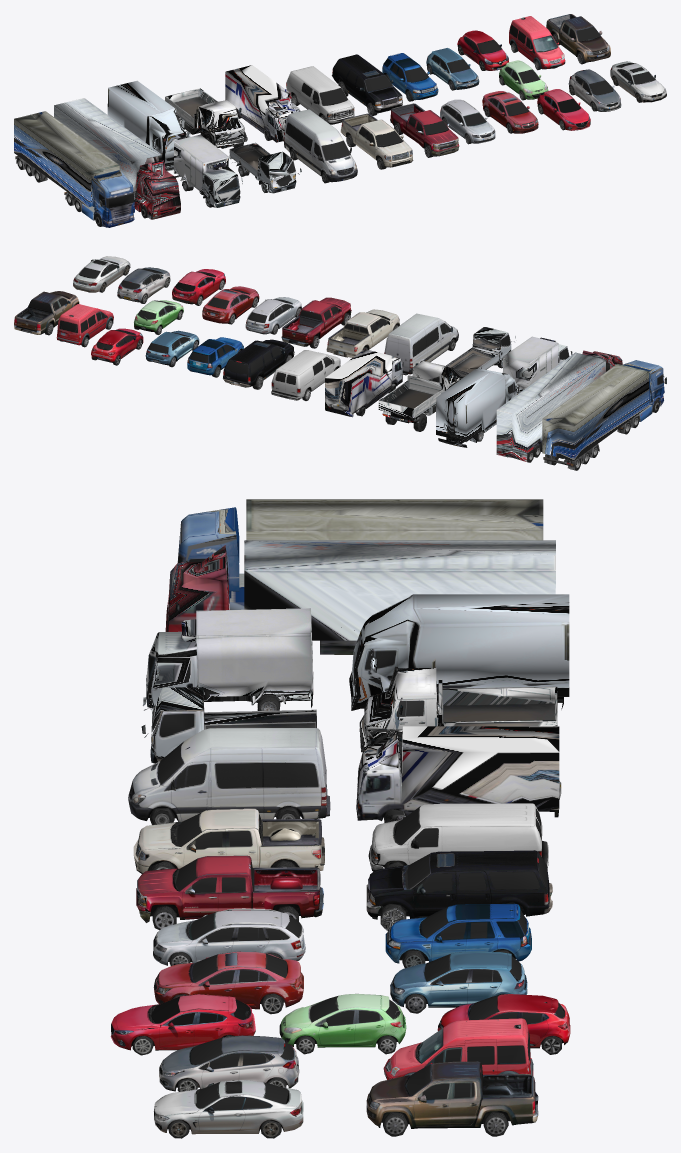
Rendered from vehicle_lot_display.glb.
The picture shows the model from 3 angles, top to bottom: view 1: azimuth 30°, elevation 25°; view 2: azimuth 150°, elevation 25°; view 3: azimuth 270°, elevation 25°; orthographic projection. The views are drawn at different scales.
Visible parts, largest first — view 1: object 15, object 14, object 17, object 12, object 18, object 6, object 5, object 7, object 2, object 8, object 19, object 16 (+7 smaller); view 2: object 15, object 14, object 17, object 18, object 12, object 5, object 6, object 7, object 2, object 19, object 8, object 16 (+7 smaller); view 3: object 15, object 17, object 14, object 12, object 18, object 6, object 2, object 19, object 7, object 5, object 9, object 1 (+7 smaller).
Boxes of the visible parts, <box> form: object 15: <box>14,80,301,227</box>; object 14: <box>165,88,357,182</box>; object 17: <box>54,98,182,219</box>; object 12: <box>173,60,548,207</box>; object 18: <box>225,65,300,142</box>; object 6: <box>331,54,402,113</box>; object 5: <box>286,66,354,124</box>; object 7: <box>340,113,413,167</box>; object 2: <box>390,103,459,156</box>; object 8: <box>509,16,565,69</box>; object 19: <box>546,14,610,62</box>; object 16: <box>95,99,495,226</box>; object 15: <box>436,327,666,469</box>; object 14: <box>378,313,459,423</box>; object 17: <box>496,350,622,461</box>; object 18: <box>325,349,403,417</box>; object 12: <box>134,300,572,441</box>; object 5: <box>271,350,340,400</box>; object 6: <box>223,339,294,387</box>; object 7: <box>326,309,399,357</box>; object 2: <box>281,297,351,346</box>; object 19: <box>14,291,79,334</box>; object 8: <box>56,304,113,345</box>; object 16: <box>245,297,659,412</box>; object 15: <box>141,499,569,763</box>; object 17: <box>165,540,555,654</box>; object 14: <box>128,659,557,821</box>; object 12: <box>146,608,406,1047</box>; object 18: <box>356,726,561,820</box>; object 6: <box>366,850,552,919</box>; object 2: <box>136,855,323,922</box>; object 19: <box>366,1061,538,1128</box>; object 7: <box>133,808,324,873</box>; object 5: <box>368,803,548,871</box>; object 9: <box>385,903,531,963</box>; object 1: <box>154,1080,303,1134</box>.
Size of the model in its own units: 25 by 2.09 by 8.84.
25 materials, 25 textured.
